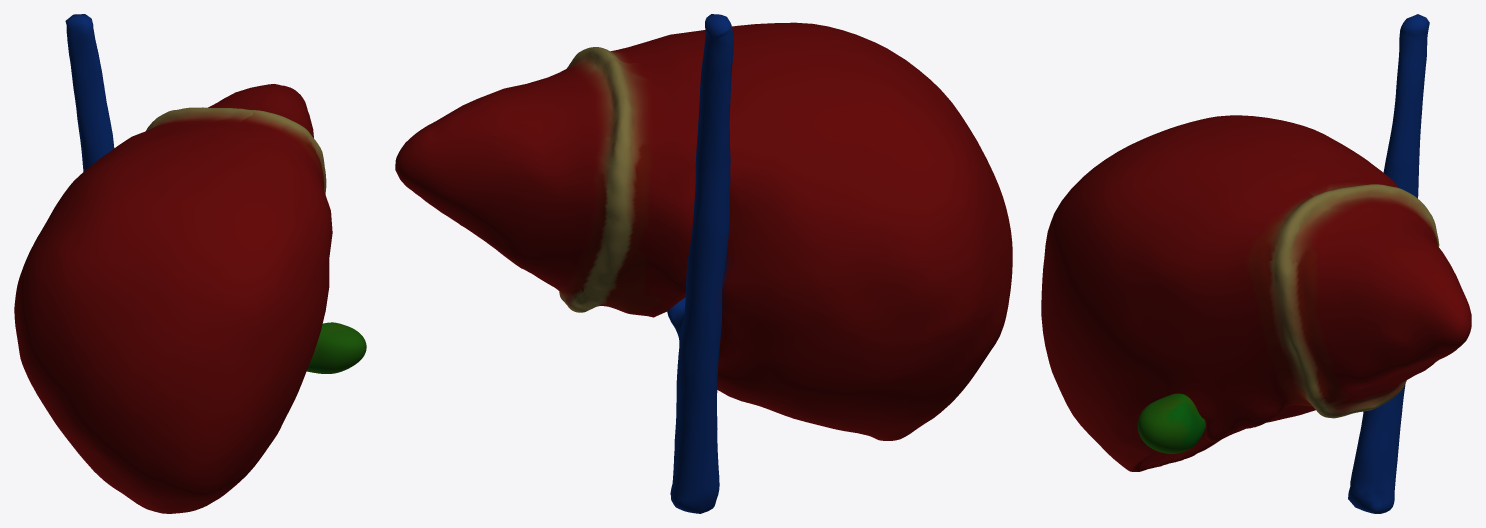
3 renders of one model, left to right at view 1: azimuth 30°, elevation 25°; view 2: azimuth 150°, elevation 25°; view 3: azimuth 270°, elevation 25°, orthographic. The views are drawn at different scales.
Visible parts, largest first — view 1: Object_2; view 2: Object_2; view 3: Object_2.
Boxes of the visible parts, x1,y1,x2,y2 form: Object_2: (14, 14, 366, 513); Object_2: (395, 14, 1012, 513); Object_2: (1041, 14, 1471, 513).
Bounding box in the file's own units: 2.37 × 2.57 × 2.11.
Materials: 1 (1 with a texture image).
